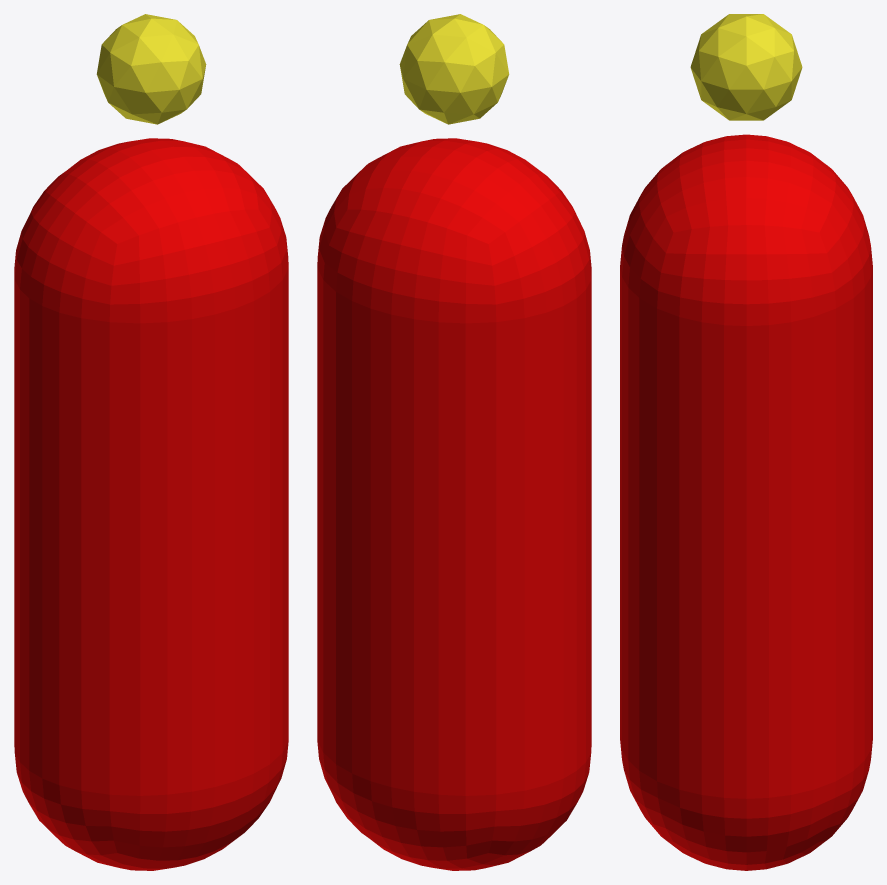
Rendered from Ennemy.glb.
3 views of the same model, side by side, from view 1: azimuth 30°, elevation 25°; view 2: azimuth 150°, elevation 25°; view 3: azimuth 270°, elevation 25° (orthographic).
Parts seen in each view (by area): view 1: Player, Player_sphere; view 2: Player, Player_sphere; view 3: Player, Player_sphere.
Boxes of the visible parts, left/top/right/bottom form: Player: left=14, top=138, right=288, bottom=870; Player_sphere: left=96, top=14, right=206, bottom=124; Player: left=317, top=138, right=591, bottom=870; Player_sphere: left=399, top=14, right=509, bottom=124; Player: left=620, top=134, right=872, bottom=870; Player_sphere: left=690, top=14, right=802, bottom=120.
Size of the model in its own units: 0.5426 by 1.78 by 0.4856.
